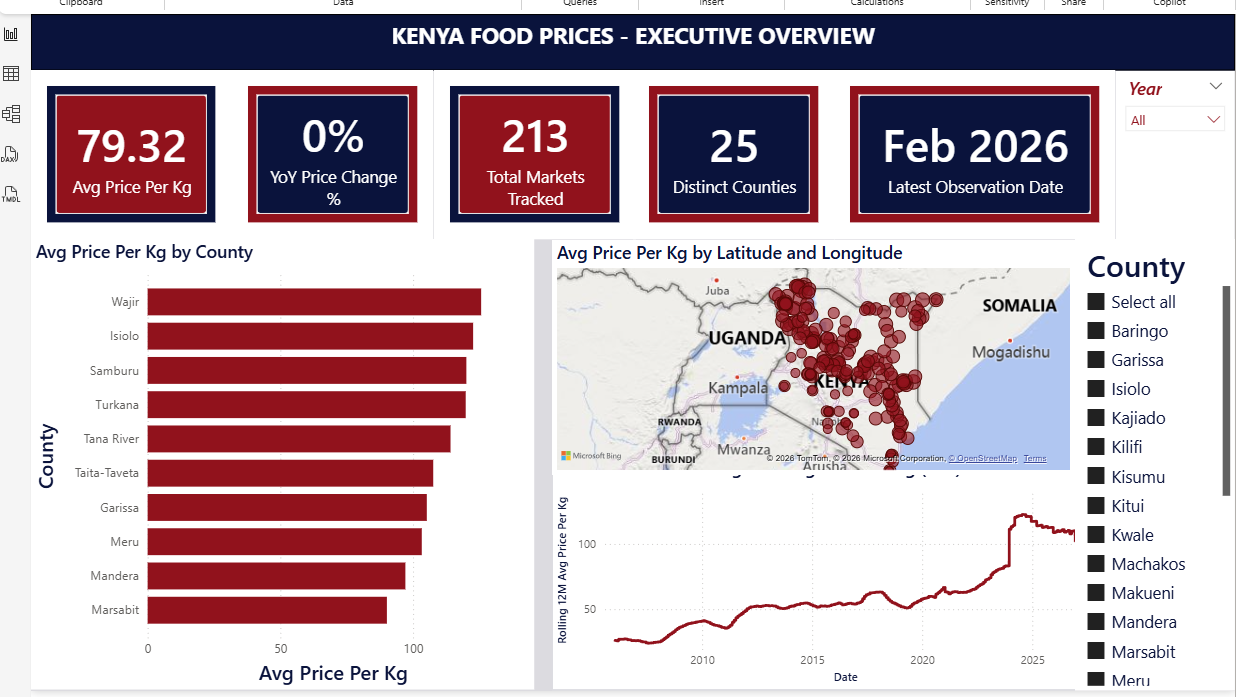

Layout of this report page (visuals, bound fields, positions):
{"tool":"powerbi","page":{"name":"Executive Overview","canvas":[1280,720],"ordinal":1},"visuals":[{"type":"textbox","box":[0,0,1280,60],"z":0},{"type":"cardVisual","fields":{"Data":["_Measures.Avg Price Per Kg"]},"box":[0,59.6,213.9,179.6],"z":1000},{"type":"cardVisual","fields":{"Data":["_Measures.YoY Price Change %"]},"box":[214.1,59.9,214.1,179.6],"z":2000},{"type":"cardVisual","fields":{"Data":["_Measures.Total Markets Tracked"]},"box":[428.2,59.9,214.1,179.6],"z":3000},{"type":"cardVisual","fields":{"Data":["_Measures.Distinct Counties"]},"box":[640,59.9,214.1,179.6],"z":4000},{"type":"cardVisual","fields":{"Data":["_Measures.Latest Observation Date"]},"box":[854.1,59.9,299.3,179.6],"z":5000},{"type":"slicer","fields":{"Values":["DimDate.Year"]},"box":[1153.6,60.3,126.4,179],"z":6000},{"type":"lineChart","title":"Rolling 12M Avg Price Per Kg (KES)","fields":{"Category":["DimDate.Date"],"Y":["_Measures.Rolling 12M Avg Price Per Kg"]},"box":[553.9,467.8,576.4,250.8],"z":7000},{"type":"map","fields":{"Y":["DimMarket.Latitude"],"X":["DimMarket.Longitude"],"Size":["_Measures.Avg Price Per Kg"]},"box":[553.9,240.3,556,248.8],"z":8000},{"type":"slicer","fields":{"Values":["DimMarket.County"]},"box":[1109.8,239.3,170.2,479.5],"z":9000},{"type":"barChart","fields":{"Category":["DimMarket.County"],"Y":["_Measures.Avg Price Per Kg"]},"box":[0,239.5,535.2,479.1],"z":10000}]}

Visuals, with their boxes on the page's 1280x720 design canvas (x1, y1, x2, y2). These are canvas units, not pixel positions in the 1236x697 screenshot, which may show the page scaled, cropped or inside an application window:
textbox: 0/0/1280/60
cardVisual - _Measures.Avg Price Per Kg: 0/60/214/239
cardVisual - _Measures.YoY Price Change %: 214/60/428/240
cardVisual - _Measures.Total Markets Tracked: 428/60/642/240
cardVisual - _Measures.Distinct Counties: 640/60/854/240
cardVisual - _Measures.Latest Observation Date: 854/60/1153/240
slicer - DimDate.Year: 1154/60/1280/239
"Rolling 12M Avg Price Per Kg (KES)" lineChart: 554/468/1130/719
map - DimMarket.Latitude x DimMarket.Longitude: 554/240/1110/489
slicer - DimMarket.County: 1110/239/1280/719
barChart - DimMarket.County x _Measures.Avg Price Per Kg: 0/240/535/719
